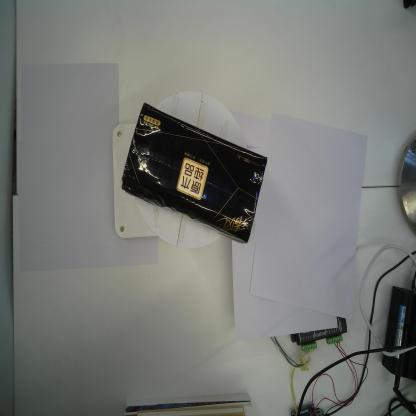Tissue: (120, 101, 269, 246)
